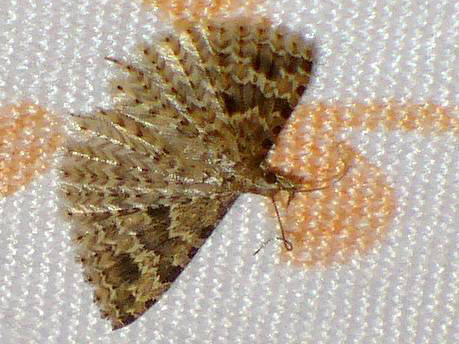Alucitidae: (46, 12, 336, 328)
moth: (48, 14, 338, 330)
